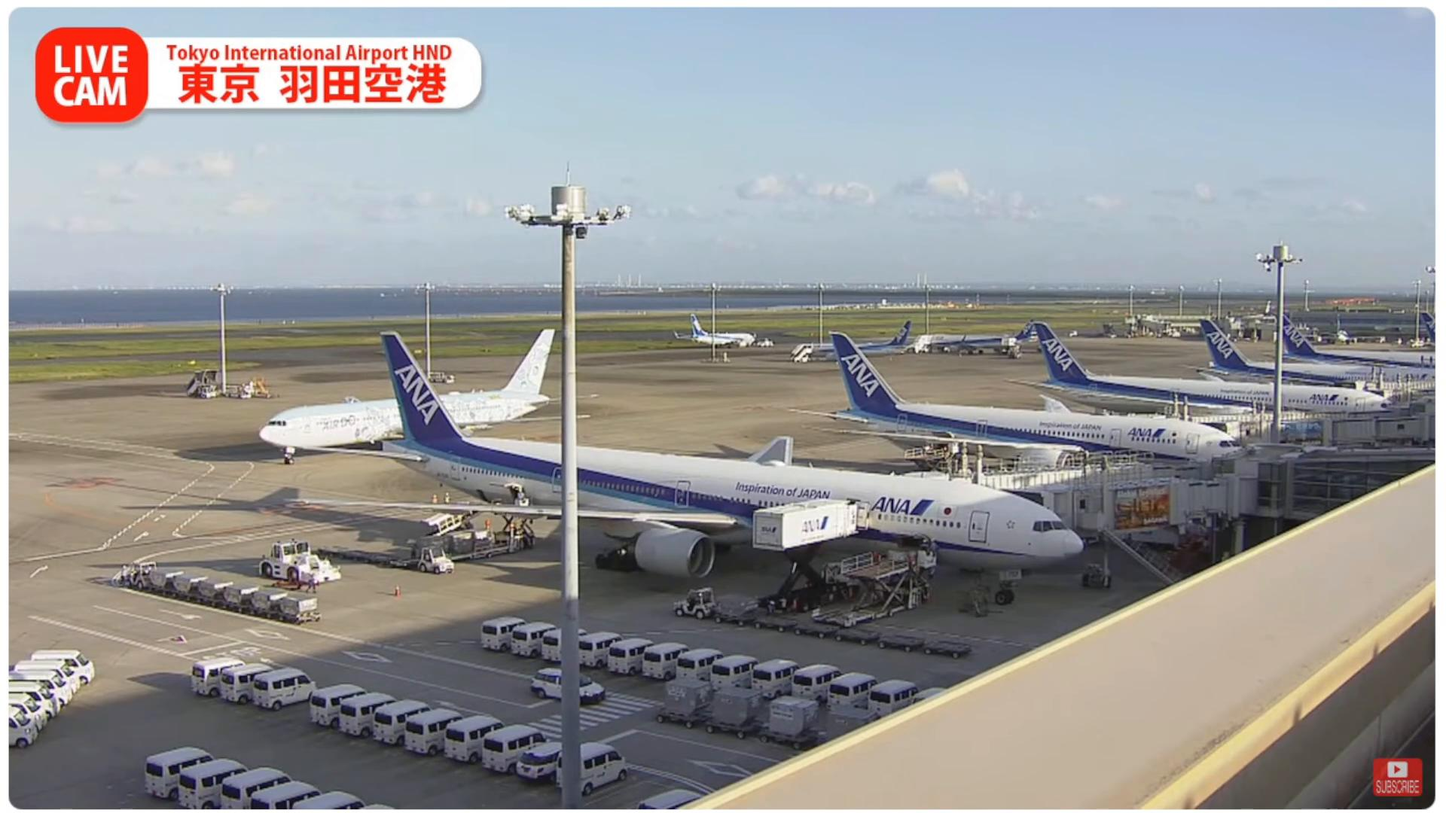APS: (246, 535, 343, 587)
Aerobridge: (990, 474, 1217, 523), (903, 458, 1204, 486)
Airplane: (290, 334, 1085, 584)
Catering: (752, 497, 860, 615)
Dolly: (655, 678, 877, 748), (710, 610, 975, 657), (148, 571, 323, 625), (316, 546, 420, 570)
JCPL: (817, 551, 941, 626), (444, 510, 538, 562)
Skyloader: (419, 512, 479, 546)
Tractor: (111, 557, 156, 590), (673, 588, 719, 618), (416, 548, 458, 575)
Window: (1253, 443, 1435, 520)
